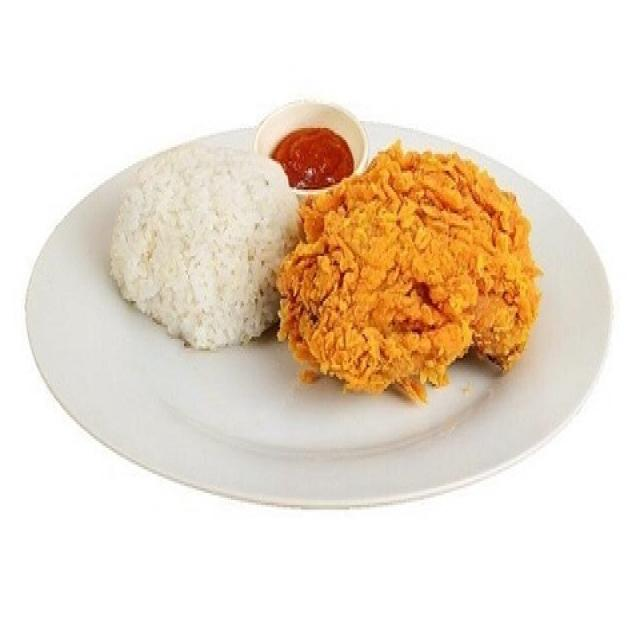Frango: (284, 179, 519, 400)
